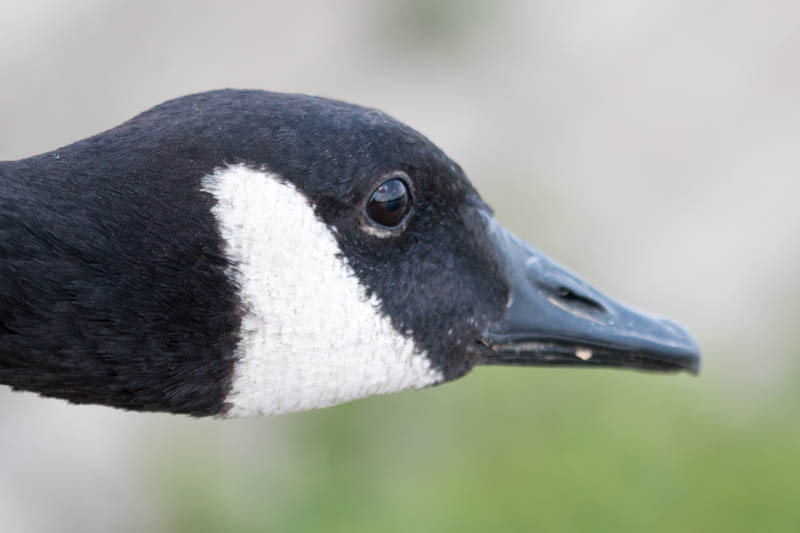goose-head: (55, 88, 699, 418)
